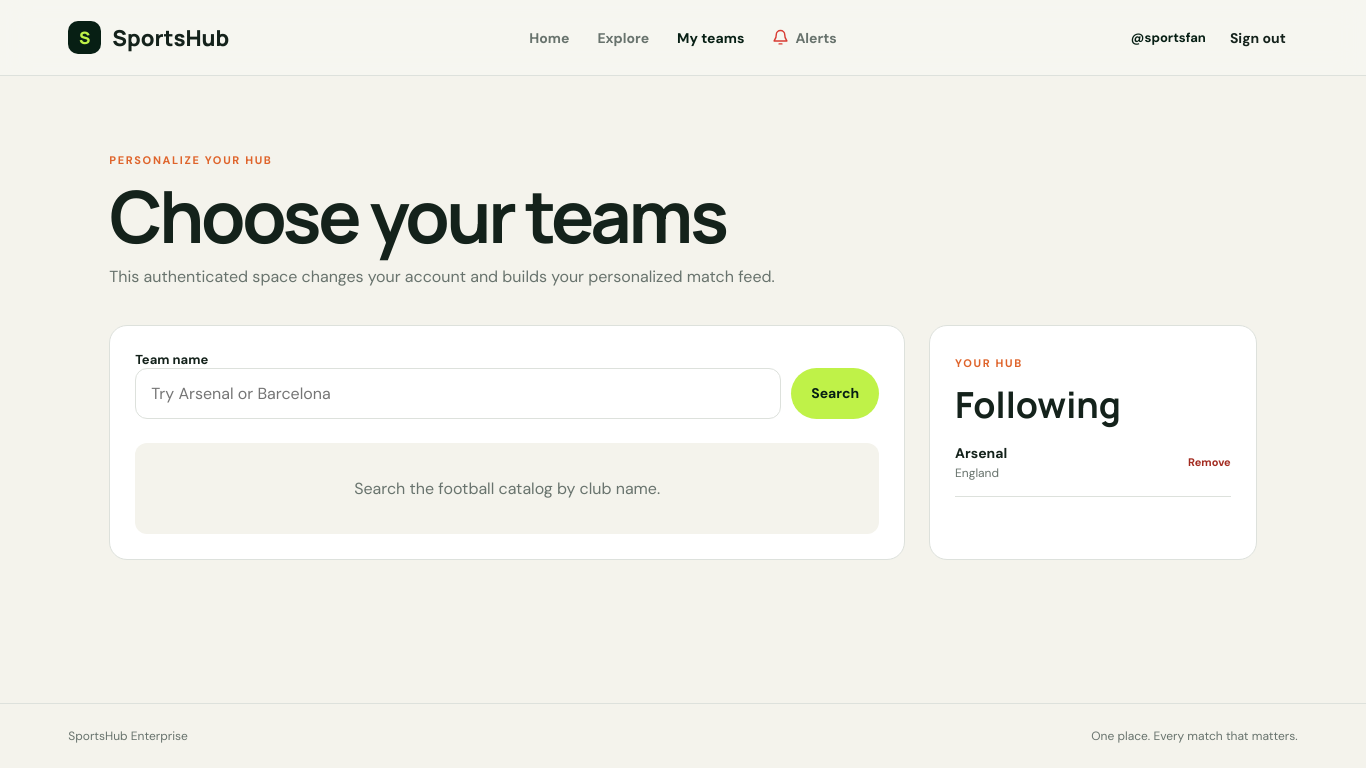
Test: SportsHub web foundation › removes a followed team only after inline confirmation
Click the button with aria-label "remove arsenal from your hub".
click(1209, 462)  # box [1188,448,1231,476]
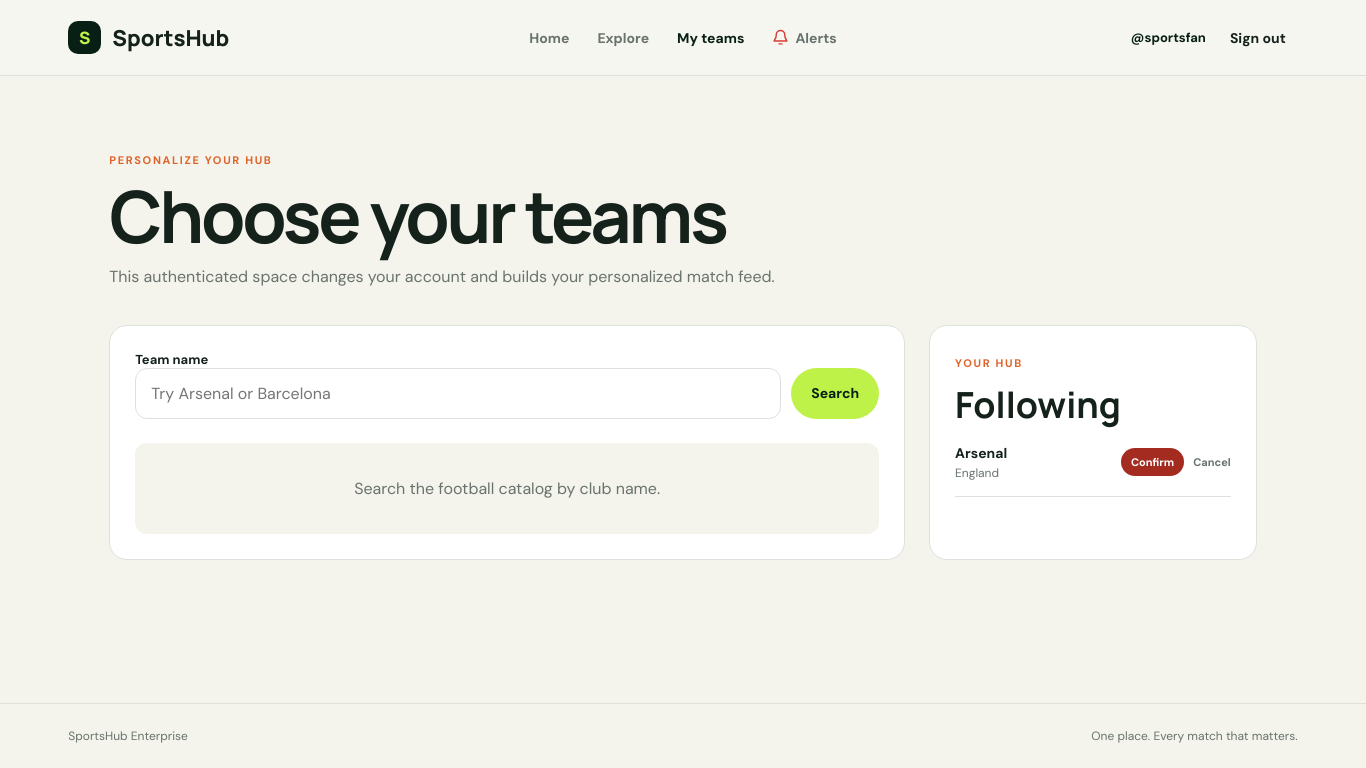
Expected: the text "Arsenal" is shown, [955,444,1007,462]
Click the button with aria-label "confirm remove arsenal".
click(1152, 462)  # box [1121,448,1184,476]
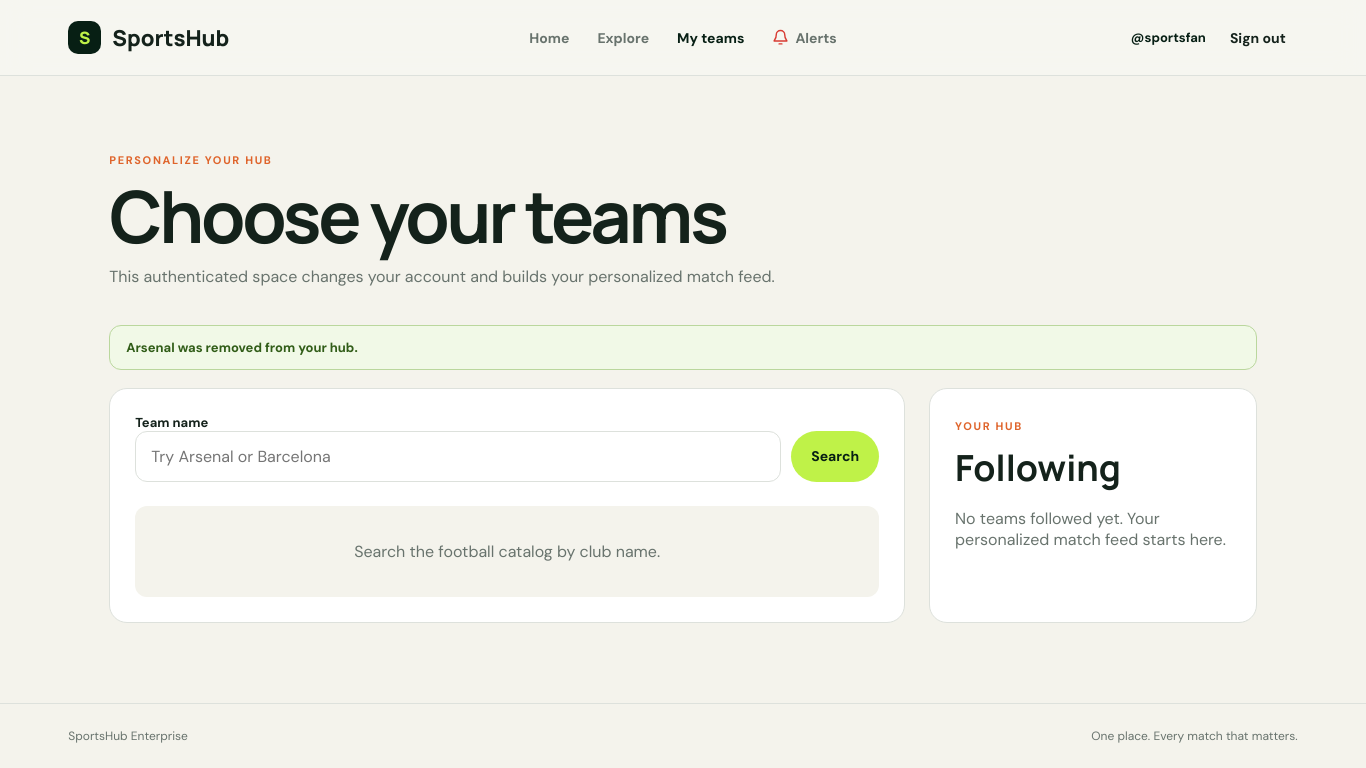
Expected: the text "Arsenal was removed from your hub." is shown, [109,325,1257,370]
